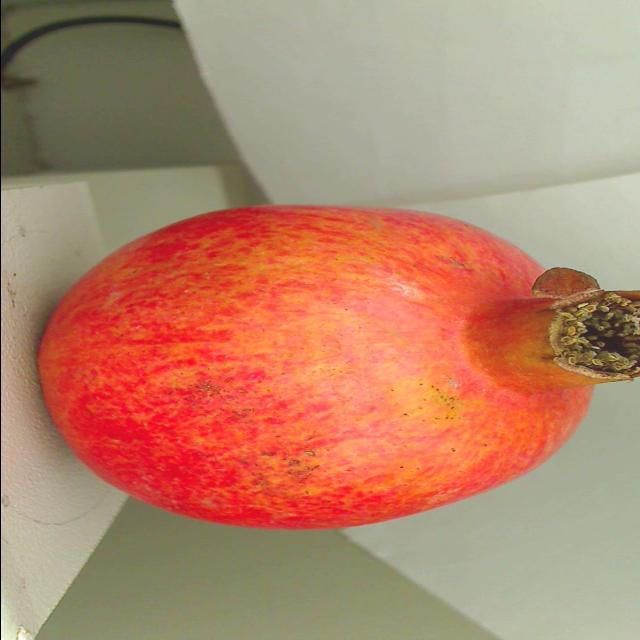pomegranate: (6, 186, 640, 544)
